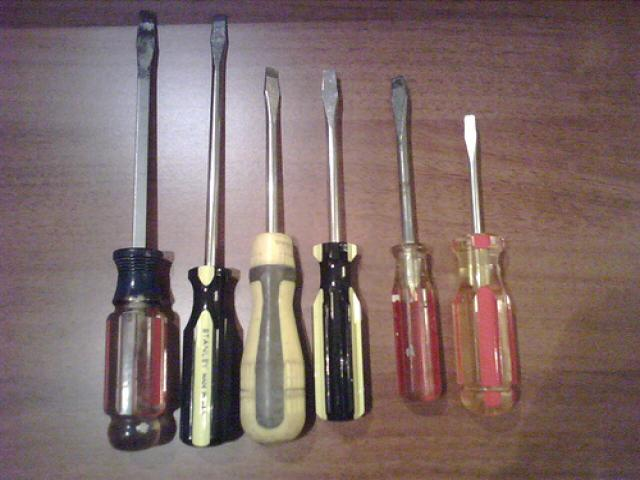Screwdriver: (104, 11, 180, 451), (180, 15, 242, 446), (240, 68, 306, 442), (452, 115, 519, 413), (312, 69, 365, 420), (391, 76, 444, 401)
